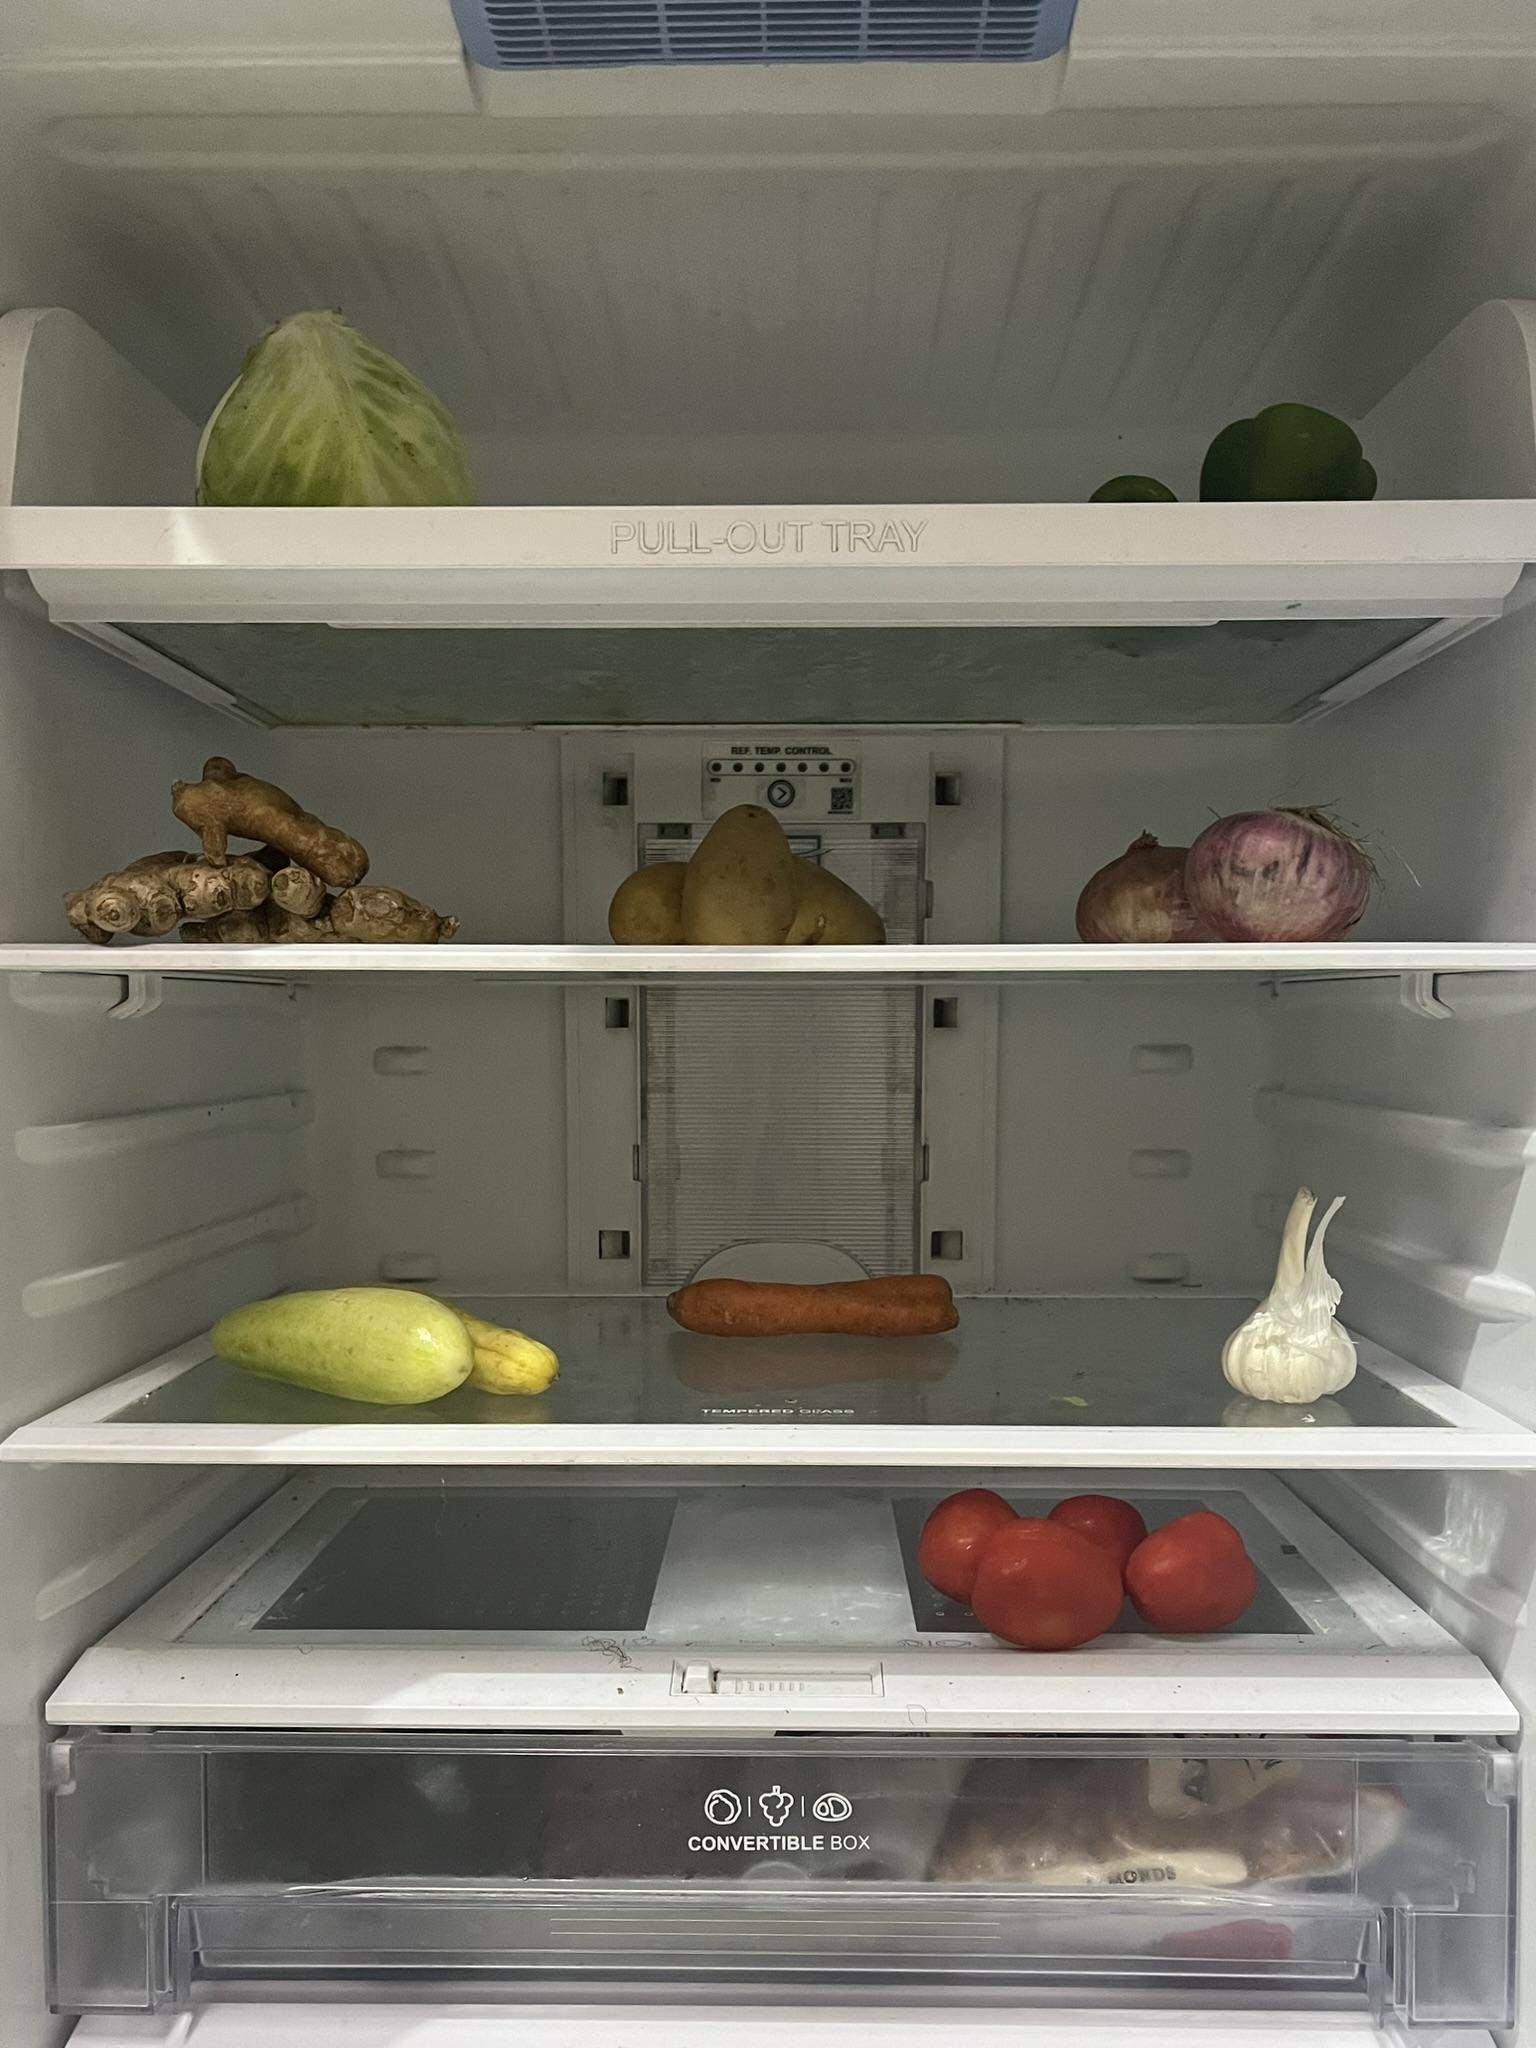capsicum: (1194, 387, 1373, 493)
carrots: (663, 1266, 954, 1340)
cucumber: (194, 1284, 563, 1403)
garlic: (1229, 1184, 1363, 1397)
ginger: (73, 843, 453, 943), (150, 743, 376, 877)
lettuce: (187, 290, 484, 510)
onion: (1083, 797, 1379, 947)
potato: (594, 797, 904, 943)
tomato: (904, 1477, 1267, 1643)
